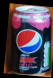pepsi: (13, 6, 51, 76)
